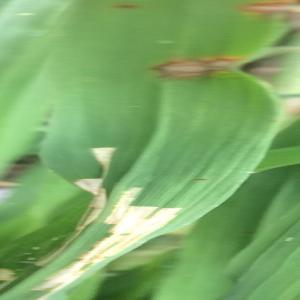Rice_Blast: (151, 47, 263, 84)
